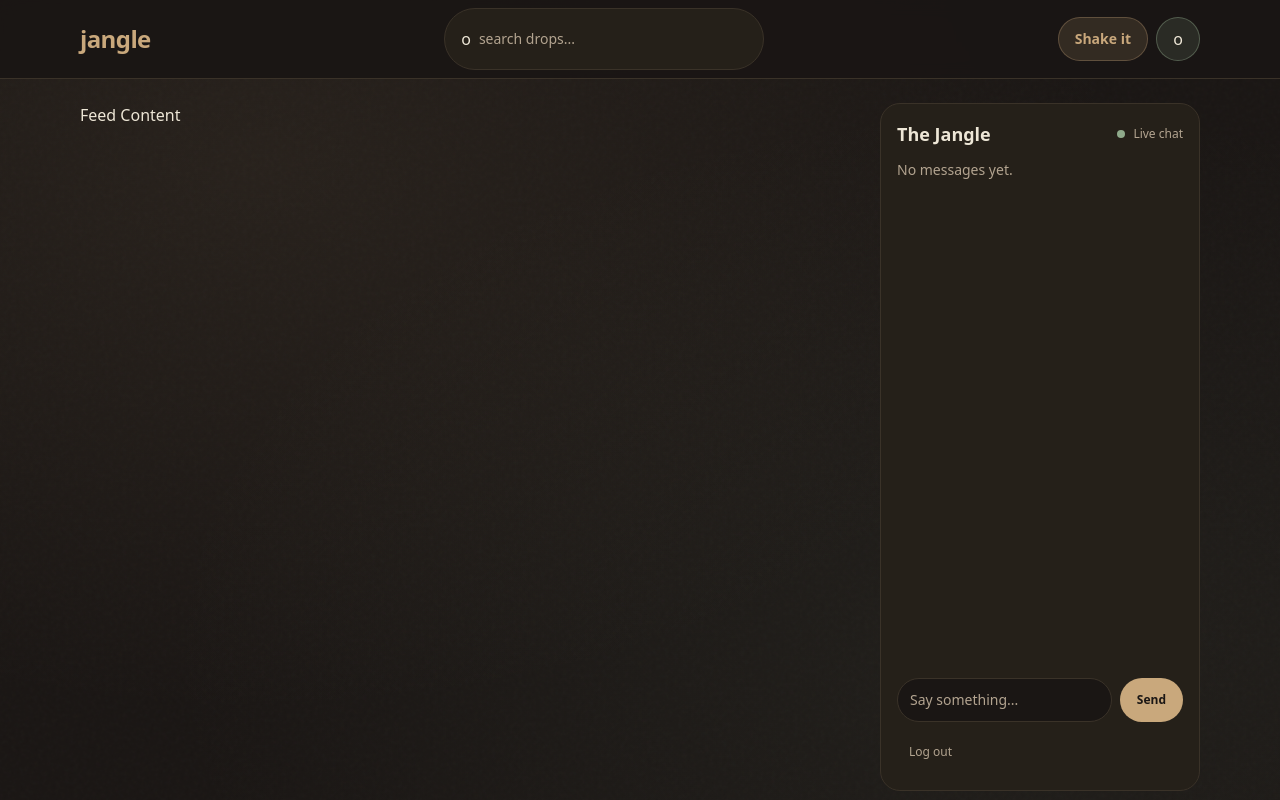
Scenario: Layout shell › sends a chat message with send button and clears input
Check: the text "No messages yet." is shown, box [897,160,1013,179]
Step 1. Type "hello jangle" into the field named "chat message" → (1004, 700), box [897,678,1112,722]
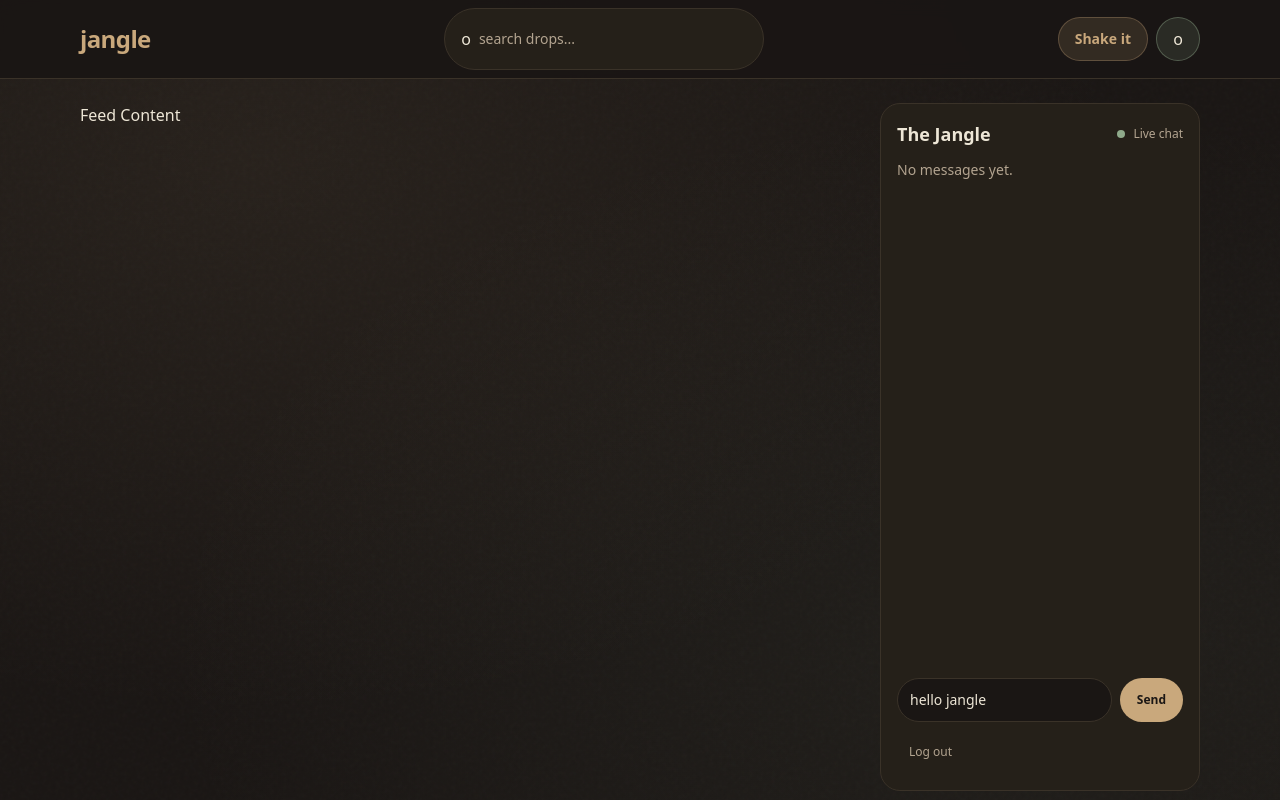
Step 2. Click the button with aria-label "send chat message" → (1151, 700), box [1120,678,1183,722]
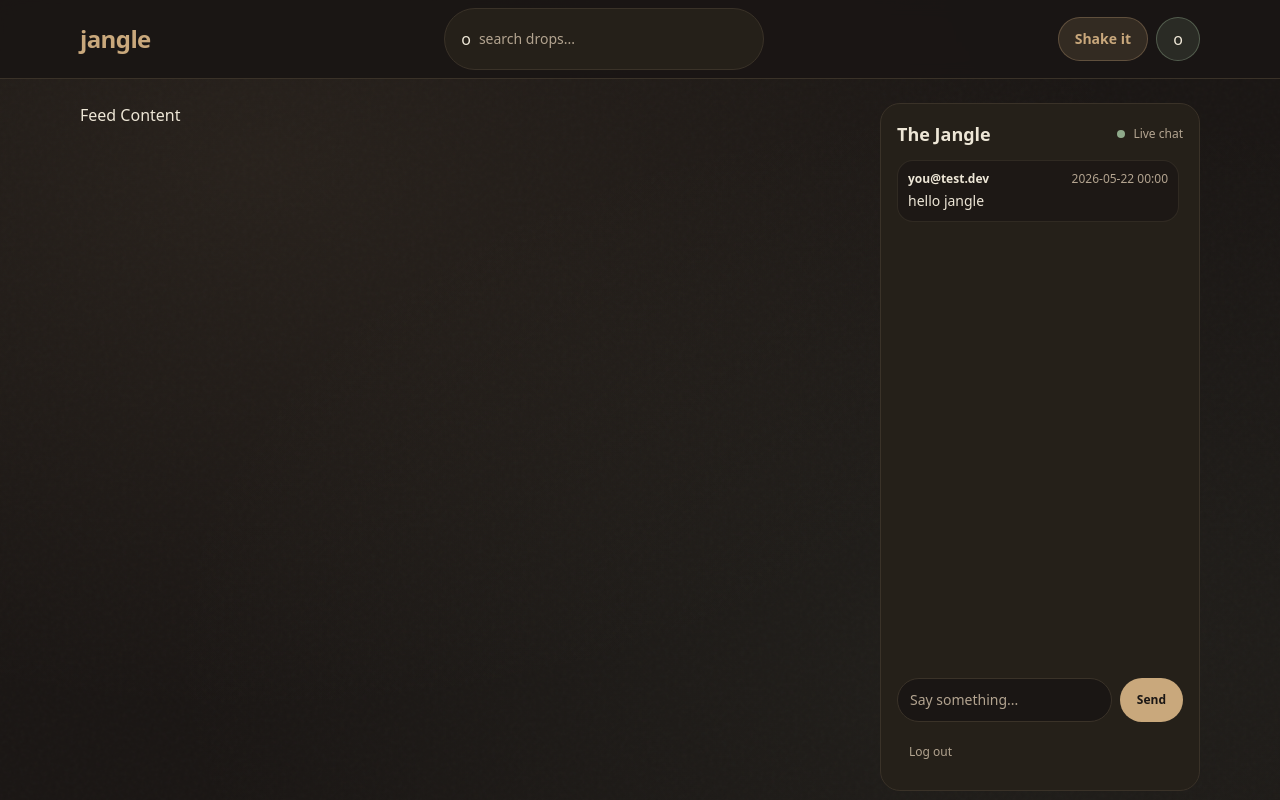
Check: the text "hello jangle" is shown, box [908,191,984,210]
Check: the field named "chat message" is empty, box [897,678,1112,722]
